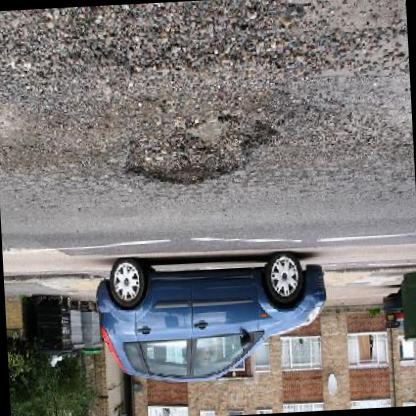pothole: (120, 109, 280, 192)
